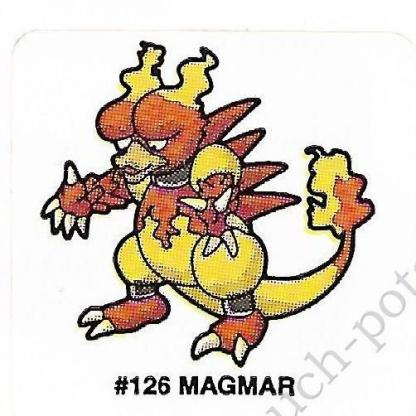Magmar: (1, 12, 416, 411)
